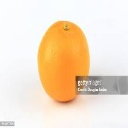orange: (35, 17, 93, 104)
